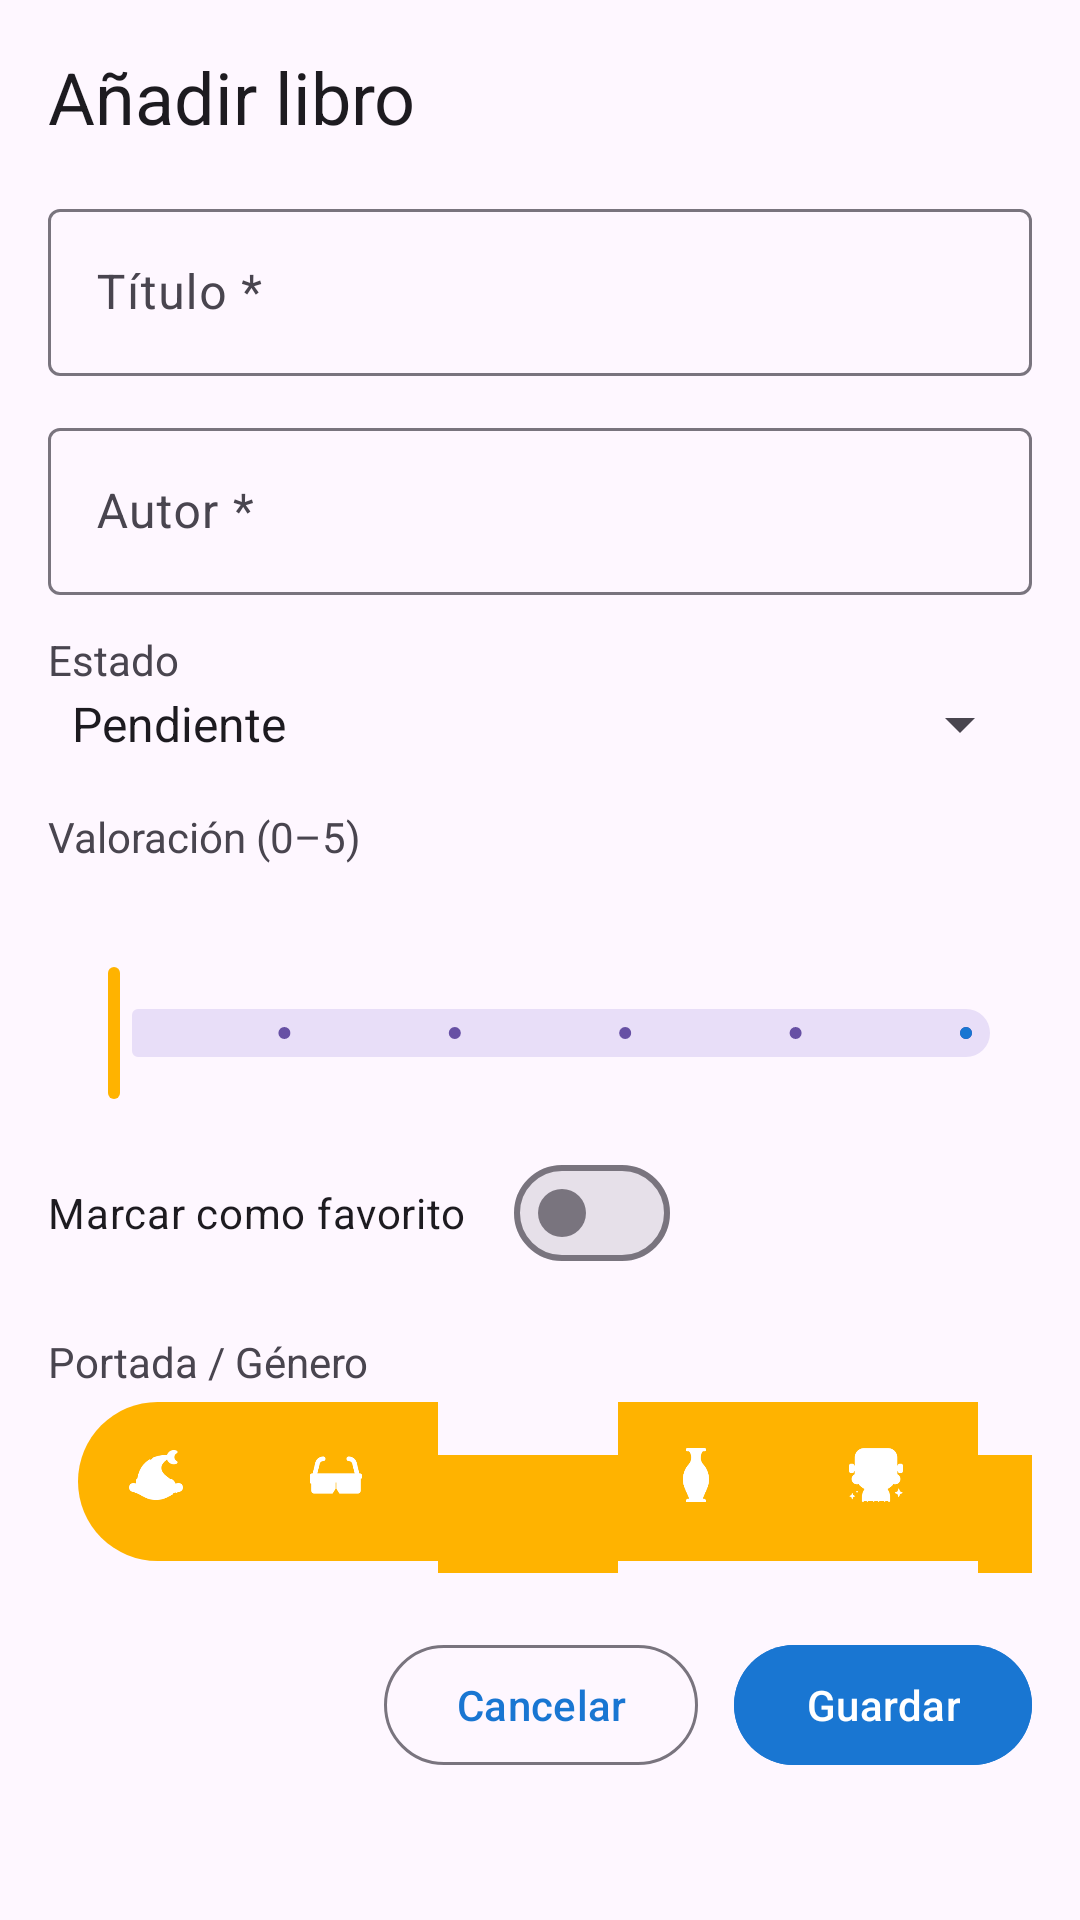

Icons on this 1080 × 1920 Android screen, each with its box as (x1, y1, x2, y2):
fantasy: (78, 1402, 258, 1561)
history: (618, 1402, 798, 1561)
